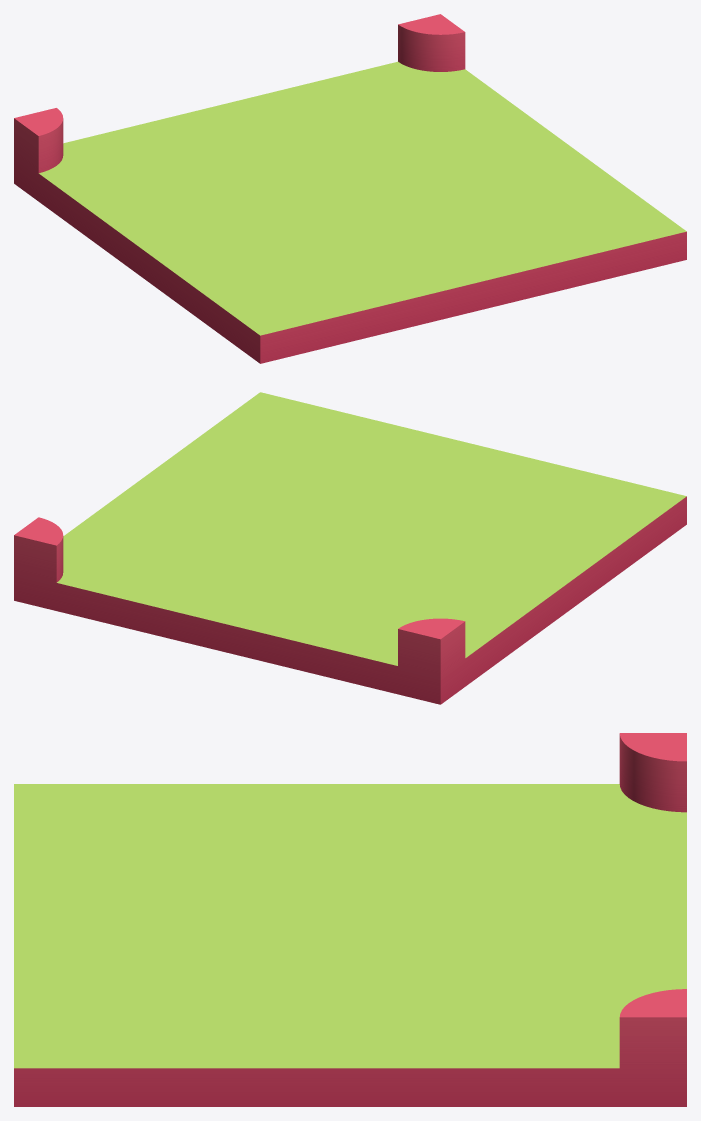
The model's file is walls-to-open.gltf.
The picture shows the model from 3 angles, top to bottom: view 1: azimuth 30°, elevation 25°; view 2: azimuth 150°, elevation 25°; view 3: azimuth 270°, elevation 25°; orthographic projection. The views are drawn at different scales.
Parts seen in each view (by area): view 1: walls-to-open; view 2: walls-to-open; view 3: walls-to-open.
Boxes of the visible parts, x1,y1,x2,y2 form: walls-to-open: (14, 14, 686, 363); walls-to-open: (14, 392, 686, 704); walls-to-open: (14, 733, 686, 1106).
Bounding box in the file's own units: 0.9999 × 0.1467 × 0.9999.
1 material, 1 textured.
